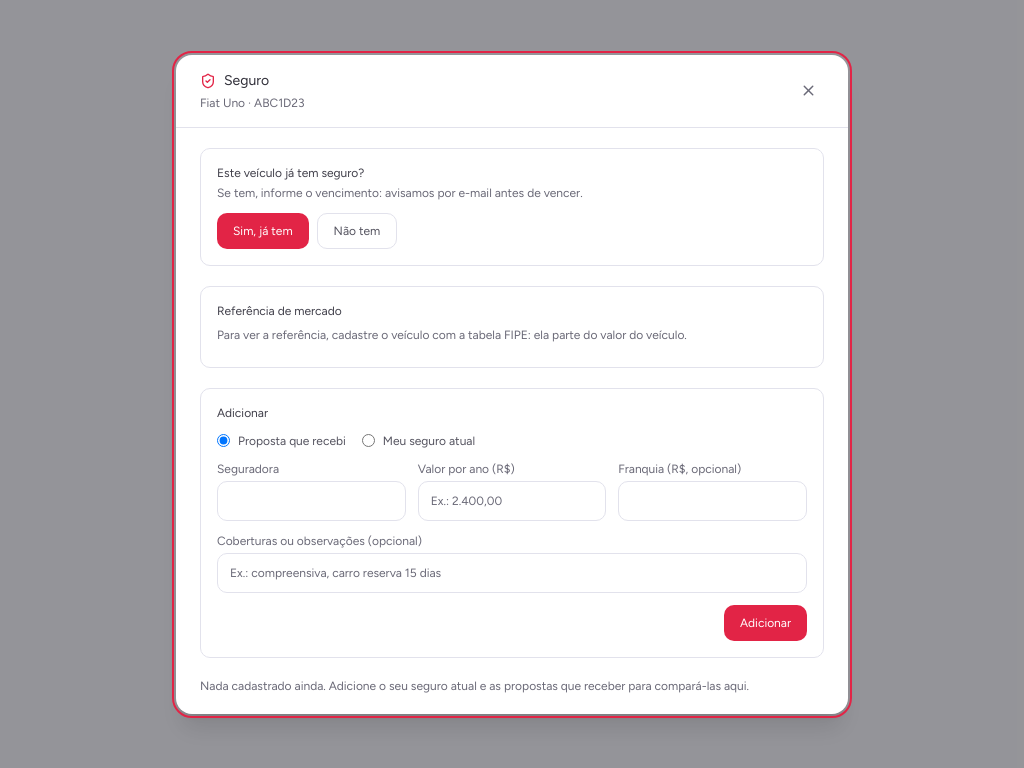
Test case: valores digitados no formato brasileiro › seguro › valor inválido avisa em vez de enviar
Type "Porto" into the field labelled "Seguradora". click: coordinates (311, 500)
box: 217,480 -> 406,520
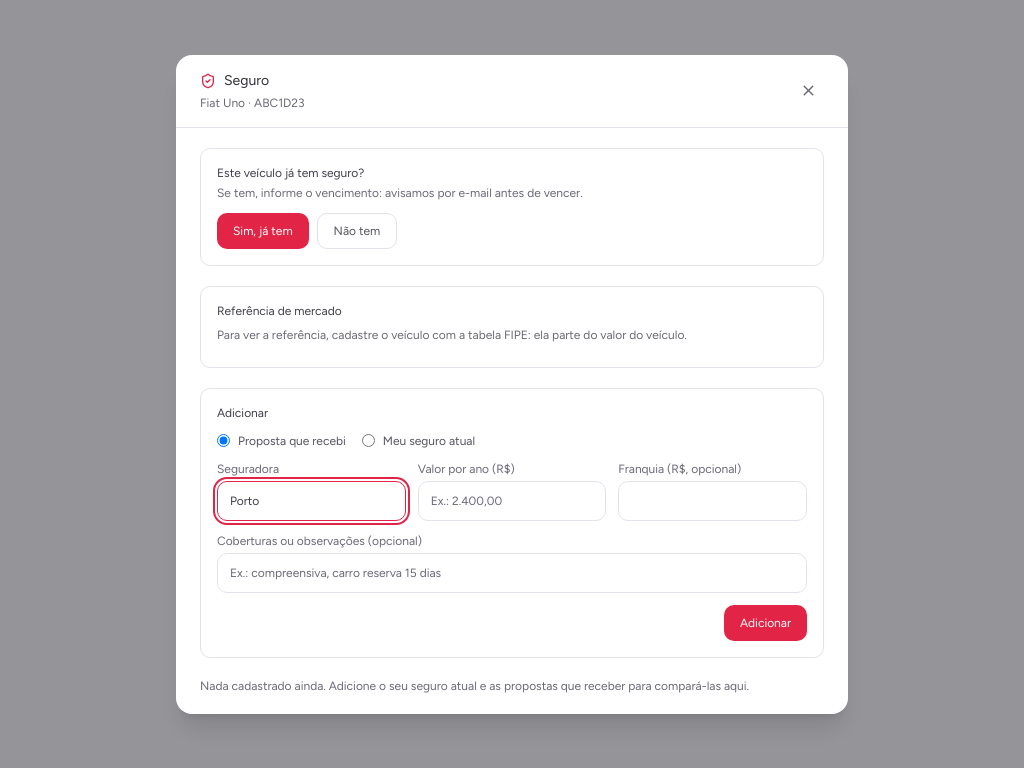
Type "dois mil" into the field labelled "Valor por ano (R$)". click: coordinates (512, 500)
box: 418,480 -> 606,520
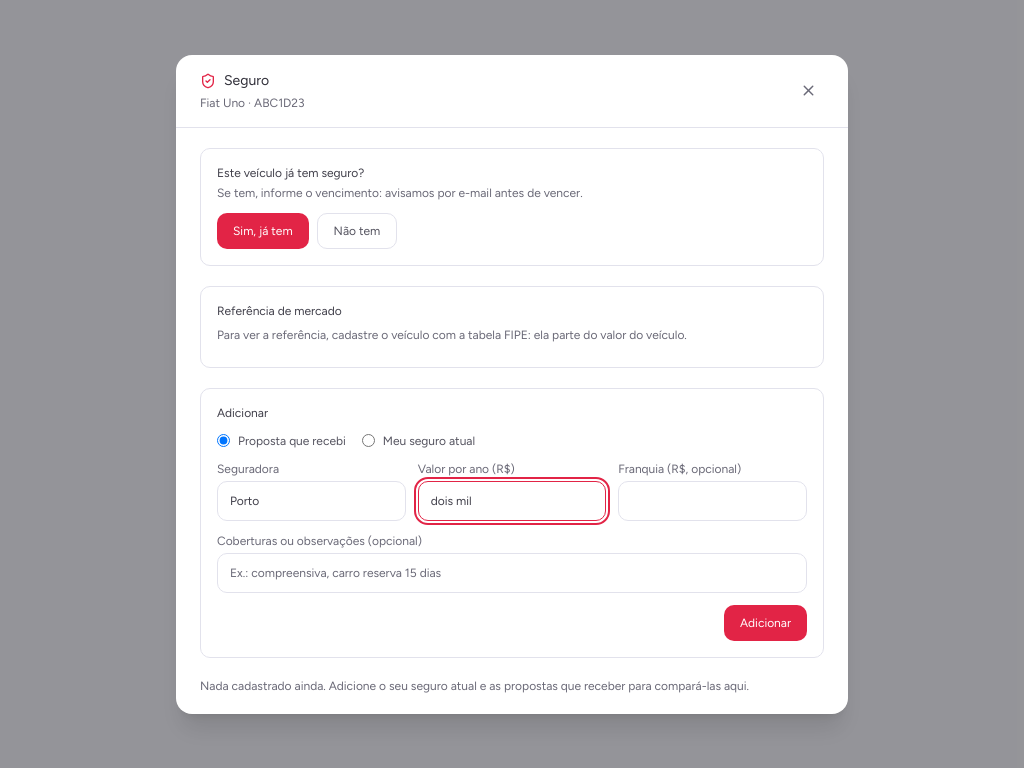
Click the button "Adicionar". click: coordinates (766, 622)
box: 724,604 -> 807,640
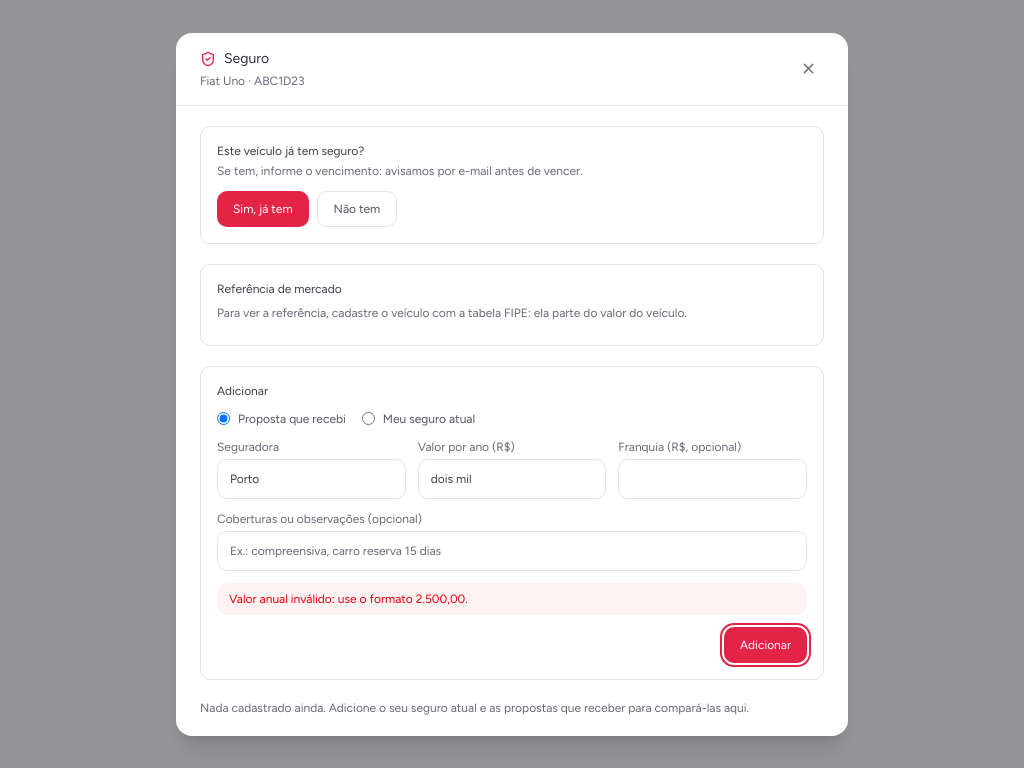
expect the text "Valor anual inválido: use o formato 2.500,00." is shown: met, box 217,582 -> 807,614
